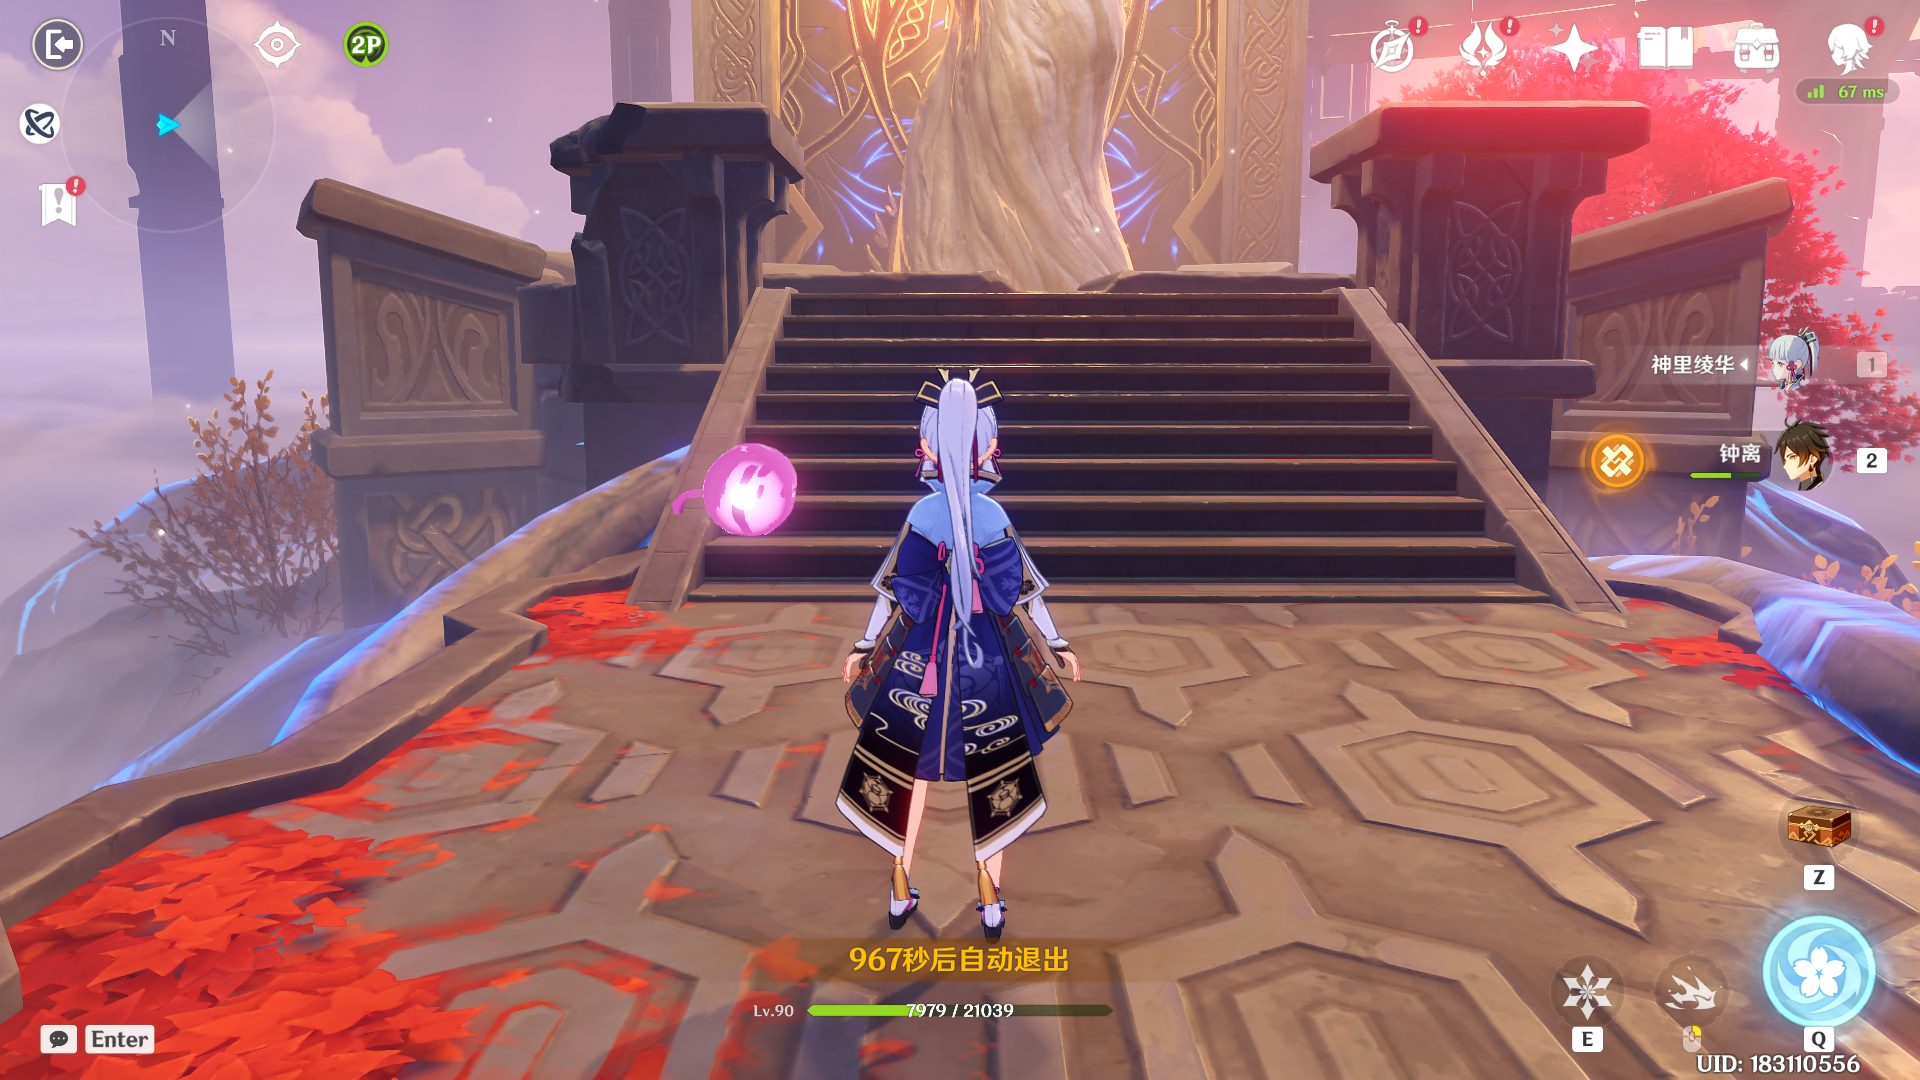character: (795, 345, 1118, 957)
